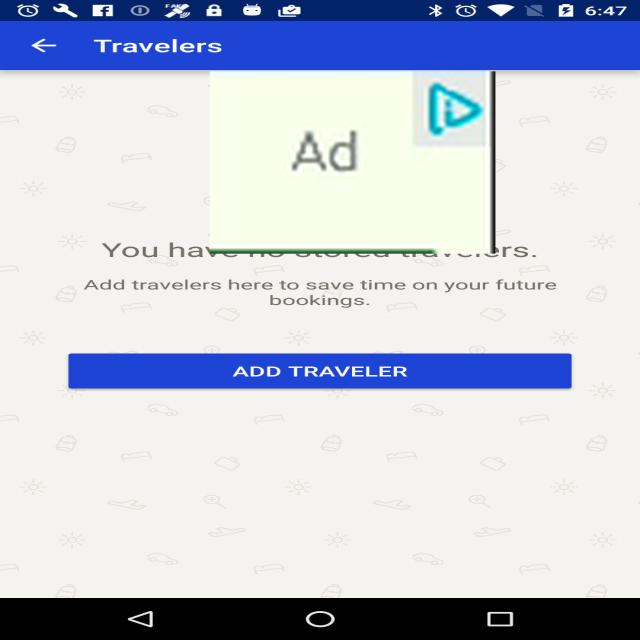sneaking: (210, 71, 495, 254)
